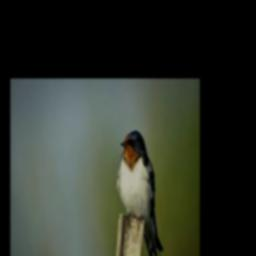Swallow: (116, 131, 165, 256)
